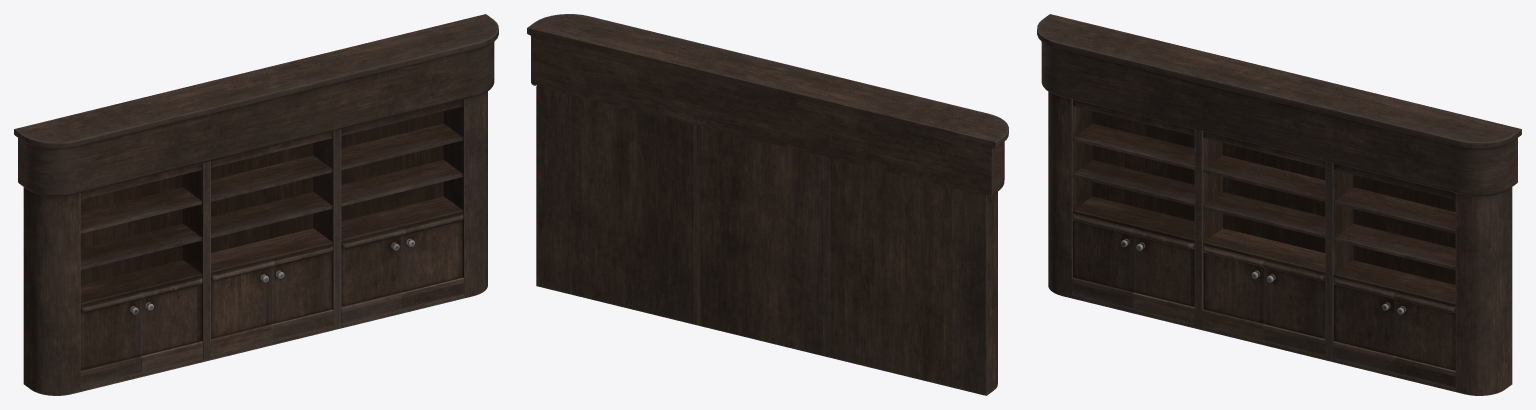
The model's file is back_bar.glb.
3 views of the same model, side by side, from view 1: azimuth 30°, elevation 25°; view 2: azimuth 150°, elevation 25°; view 3: azimuth 330°, elevation 25° (orthographic).
Parts seen in each view (by area): view 1: Bar Cabinet, BarCabinetDoor_1R, BarCabinetDoor_3R, BarCabinetDoor_2R, BarCabinetDoor_1L, BarCabinetDoor_3L, BarCabinetDoor_2L; view 2: Bar Cabinet; view 3: Bar Cabinet, BarCabinetDoor_1L, BarCabinetDoor_2L, BarCabinetDoor_3L, BarCabinetDoor_2R, BarCabinetDoor_3R, BarCabinetDoor_1R.
Part boxes in pixels (left/top/right/bottom): Bar Cabinet: left=14, top=14, right=498, bottom=395; BarCabinetDoor_1R: left=140, top=277, right=202, bottom=372; BarCabinetDoor_3R: left=401, top=213, right=463, bottom=308; BarCabinetDoor_2R: left=271, top=245, right=333, bottom=340; BarCabinetDoor_1L: left=80, top=292, right=143, bottom=387; BarCabinetDoor_3L: left=341, top=228, right=404, bottom=323; BarCabinetDoor_2L: left=211, top=260, right=273, bottom=355; Bar Cabinet: left=527, top=14, right=1008, bottom=395; Bar Cabinet: left=1037, top=14, right=1521, bottom=395; BarCabinetDoor_1L: left=1072, top=213, right=1134, bottom=308; BarCabinetDoor_2L: left=1202, top=245, right=1264, bottom=340; BarCabinetDoor_3L: left=1333, top=277, right=1395, bottom=372; BarCabinetDoor_2R: left=1262, top=260, right=1325, bottom=355; BarCabinetDoor_3R: left=1392, top=292, right=1455, bottom=387; BarCabinetDoor_1R: left=1131, top=228, right=1194, bottom=323.
Size of the model in its own units: 3.68 by 1.92 by 0.375.
1 material, 1 textured.
